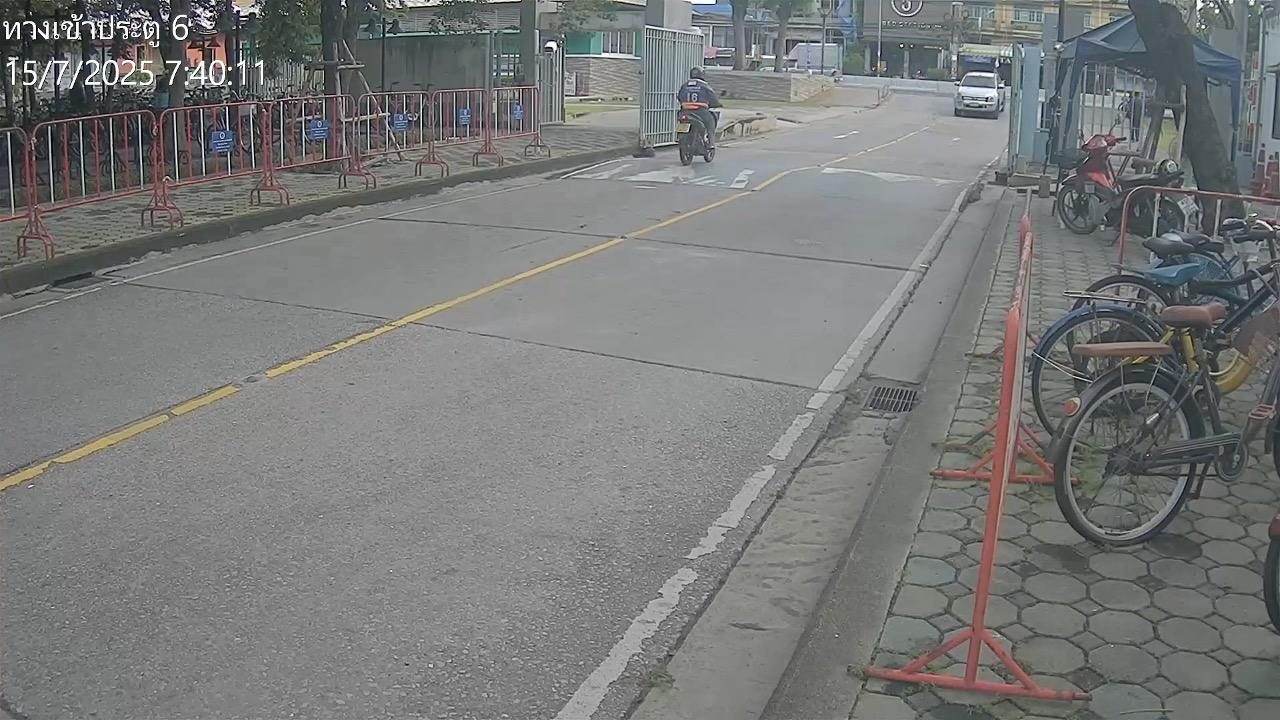With-Helmet: (690, 65, 706, 80)
